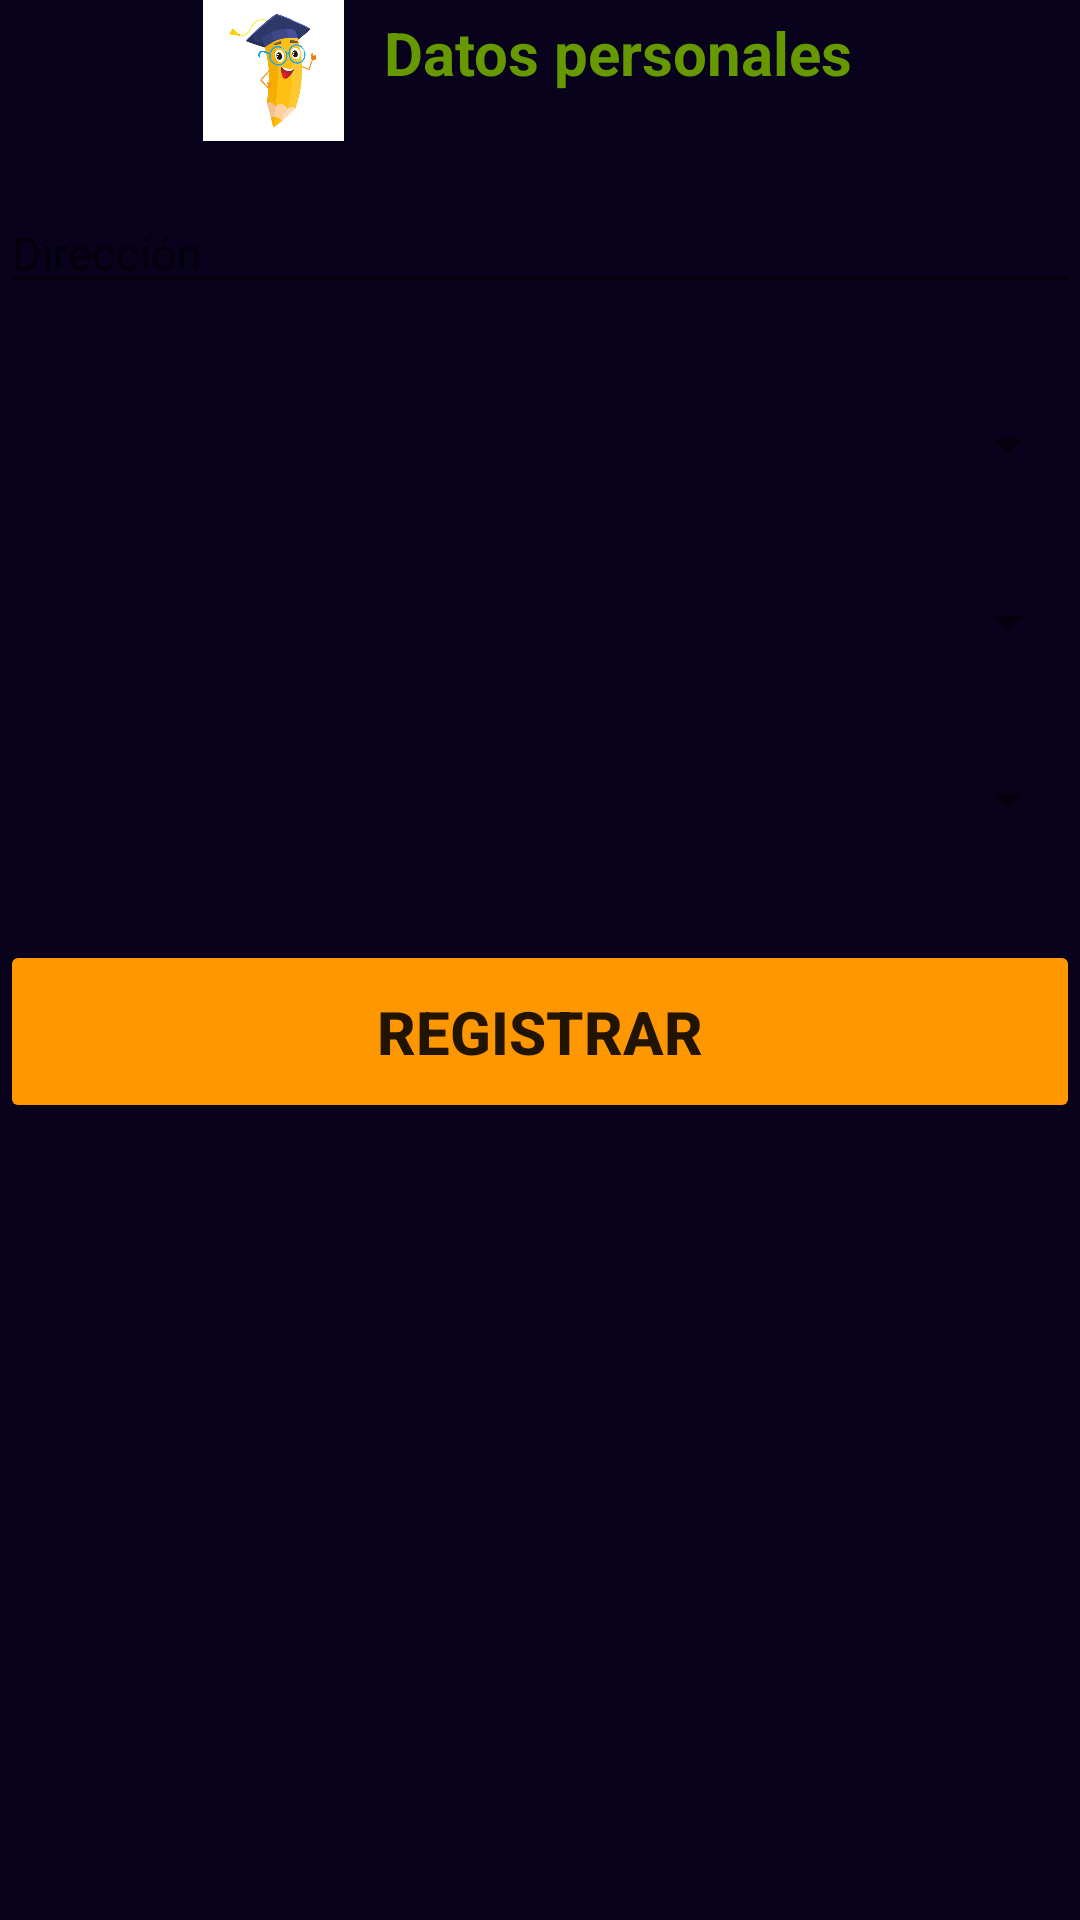

Icons on this 1080x1920 Android screen, each with its box as box=[x1, y1, x2, y2]:
lapizestadist: box=[203, 0, 344, 141]
